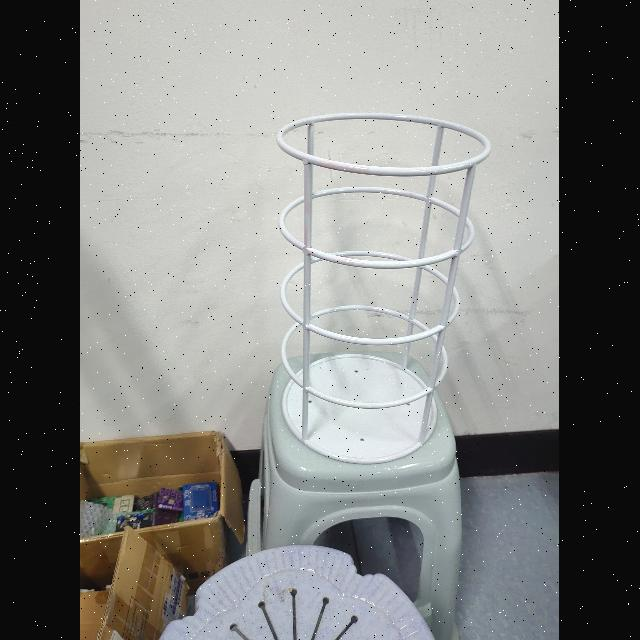S: (267, 107, 497, 470)
